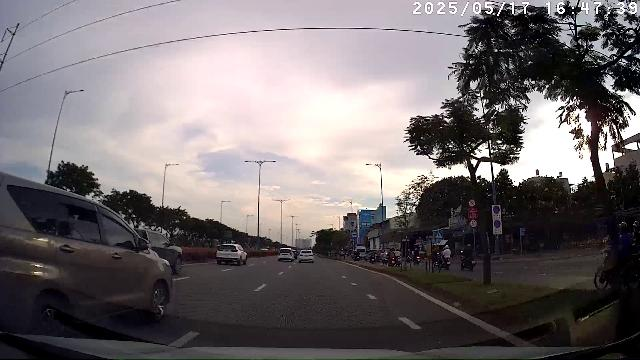127-toc-do-toi-da-50: (470, 219, 478, 227)
